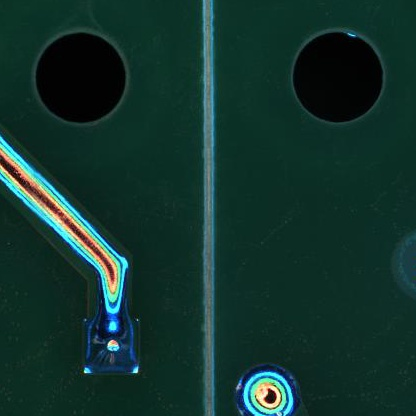spot: (79, 312, 144, 377), (234, 364, 301, 416)
